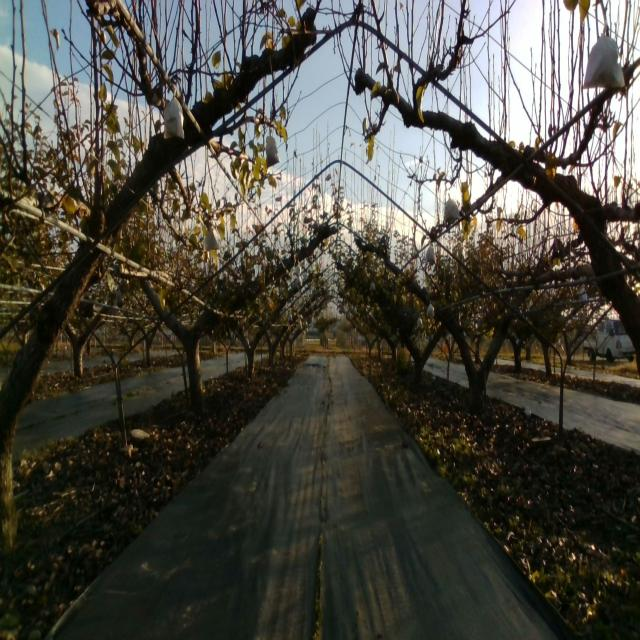pearbags: (582, 20, 625, 89), (163, 83, 185, 142), (444, 192, 460, 224), (265, 136, 280, 168), (205, 225, 220, 251)
